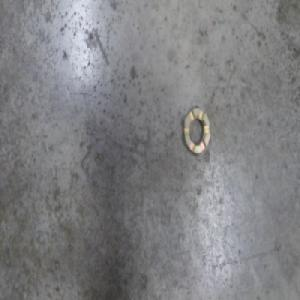Nut: (182, 104, 210, 158)
